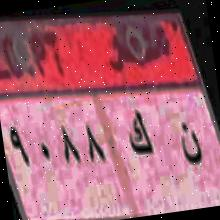0: (34, 127, 54, 170)
8: (53, 125, 83, 174), (80, 122, 107, 170)
9: (7, 113, 32, 181)
kaaf: (120, 100, 160, 176)
noon: (172, 116, 206, 180)
